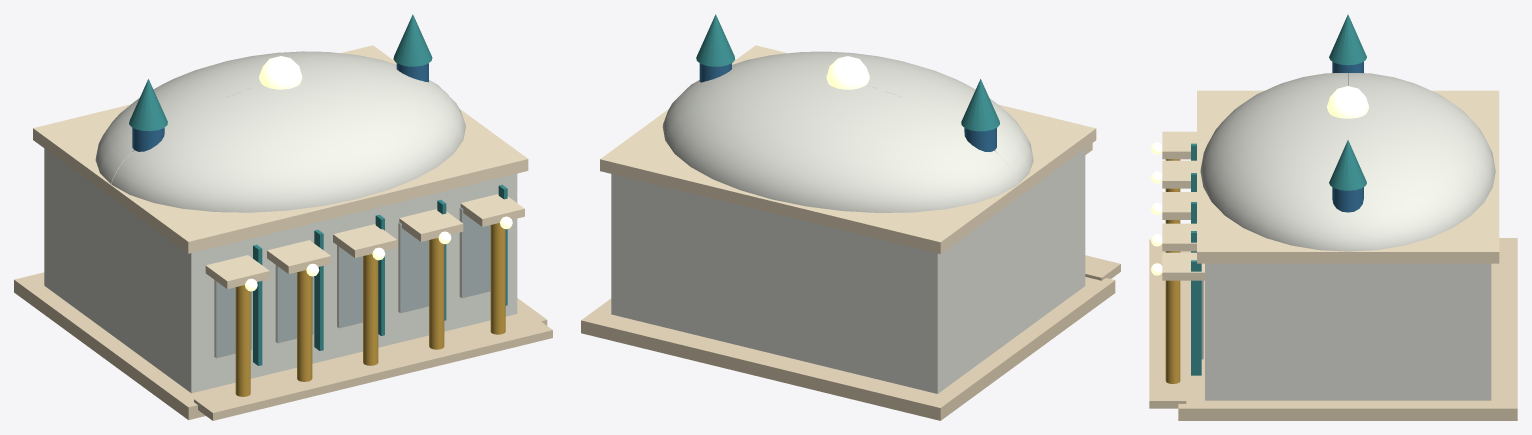
The model's file is starbase.glb.
The picture shows the model from 3 angles, left to right: view 1: azimuth 30°, elevation 25°; view 2: azimuth 150°, elevation 25°; view 3: azimuth 270°, elevation 25°; orthographic projection. The views are drawn at different scales.
Size of the model in its own units: 3.8 by 2.69 by 3.48.
